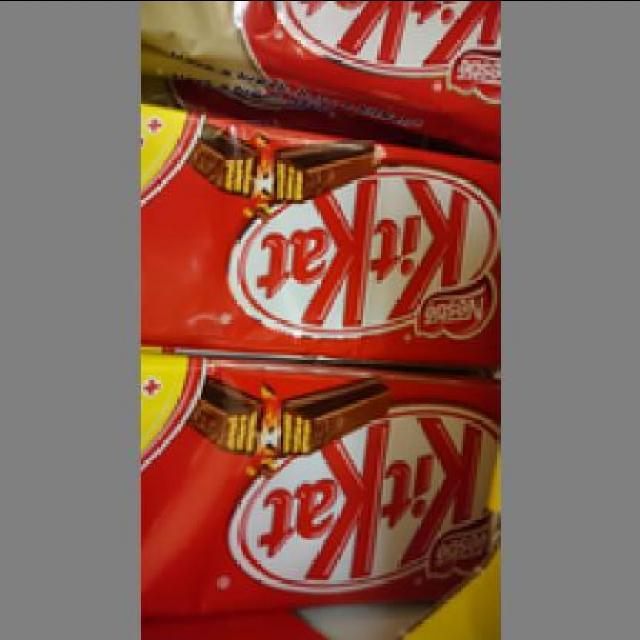Chocolate bar: (134, 360, 492, 623), (137, 120, 497, 360), (137, 3, 497, 137)
